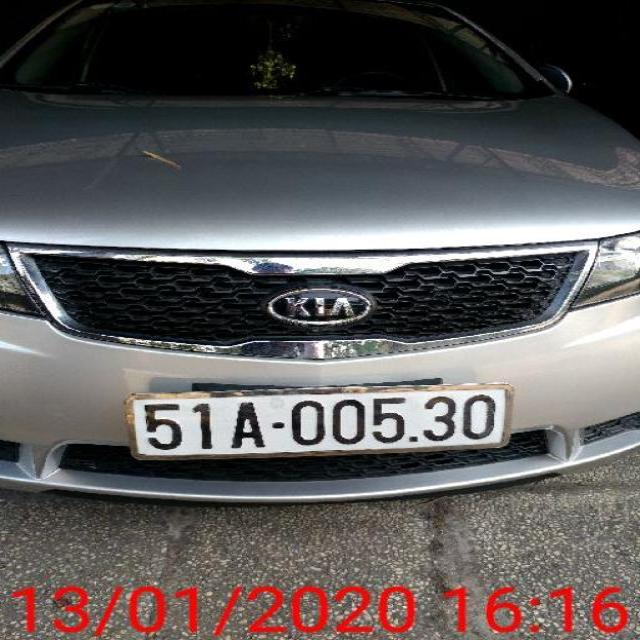0: (288, 394, 331, 452), (460, 393, 500, 444), (328, 397, 367, 443)
1: (187, 399, 219, 450)
3: (415, 395, 462, 445)
5: (368, 394, 411, 446), (144, 399, 186, 450)
A: (227, 399, 269, 455)
